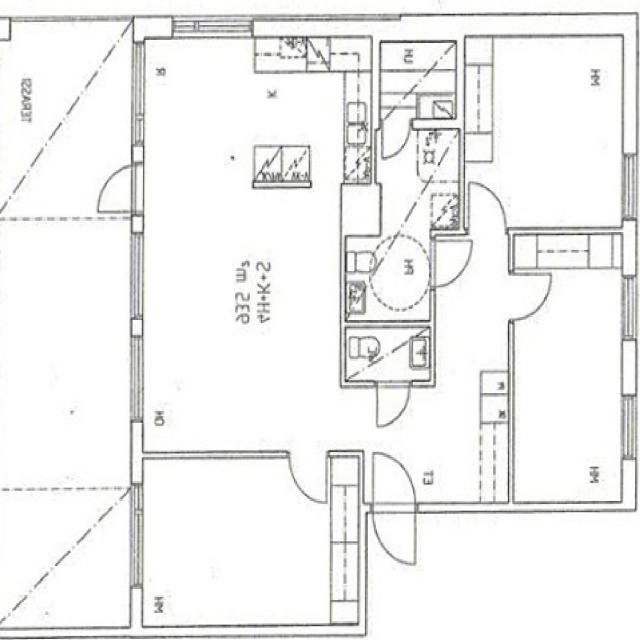door: (373, 501, 415, 564), (373, 451, 415, 514), (91, 166, 144, 214), (430, 240, 474, 286), (508, 274, 552, 320), (290, 449, 327, 502), (469, 184, 505, 235), (376, 380, 410, 430), (383, 118, 411, 163)
